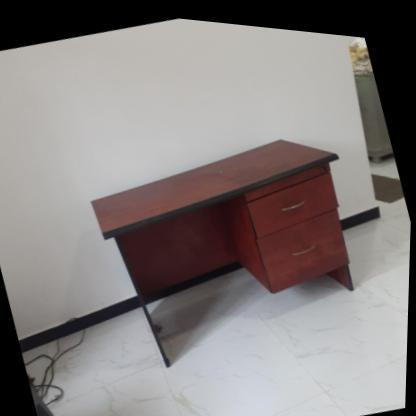Ceramic floor: (25, 188, 412, 416)
Table: (67, 91, 399, 397)
